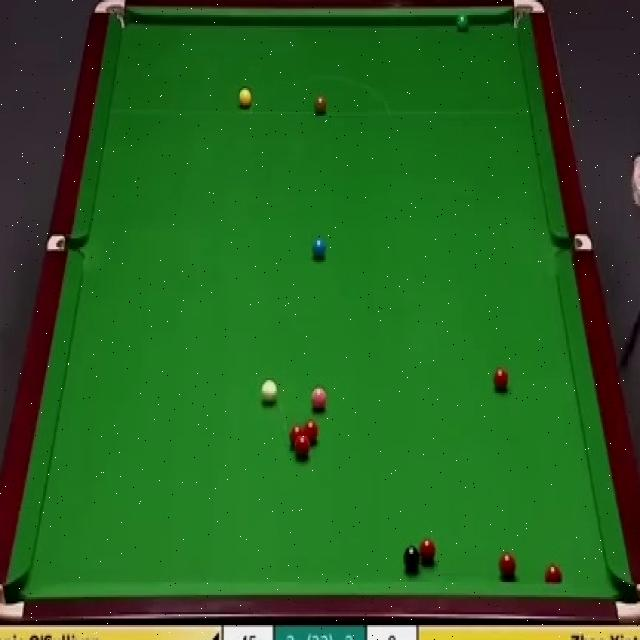black-ball: (404, 544, 420, 574)
blue-ball: (313, 239, 328, 262)
brown-ball: (314, 92, 326, 114)
green-ball: (454, 12, 468, 30)
pink-ball: (310, 386, 328, 414)
red-ball: (498, 550, 518, 576), (494, 366, 512, 392), (296, 433, 310, 463), (419, 537, 435, 563), (304, 416, 319, 442), (544, 563, 563, 583), (291, 422, 304, 446)
white-ball: (262, 379, 275, 403)
yellow-ball: (237, 89, 253, 109)
